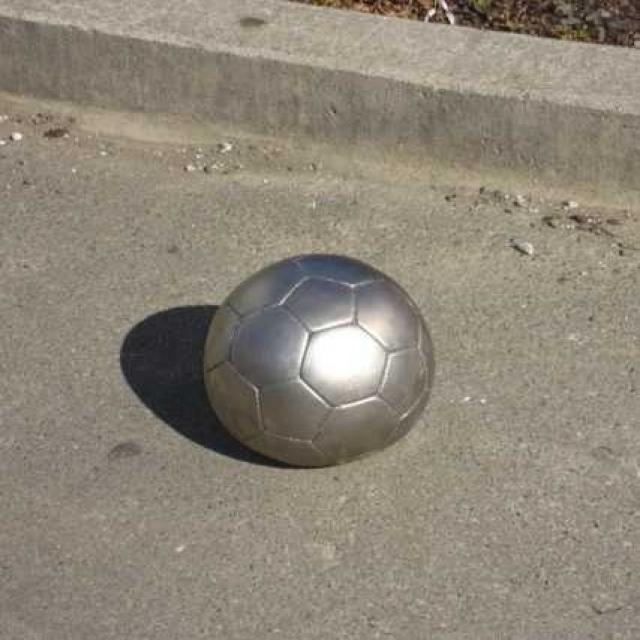ball: (203, 253, 437, 472)
